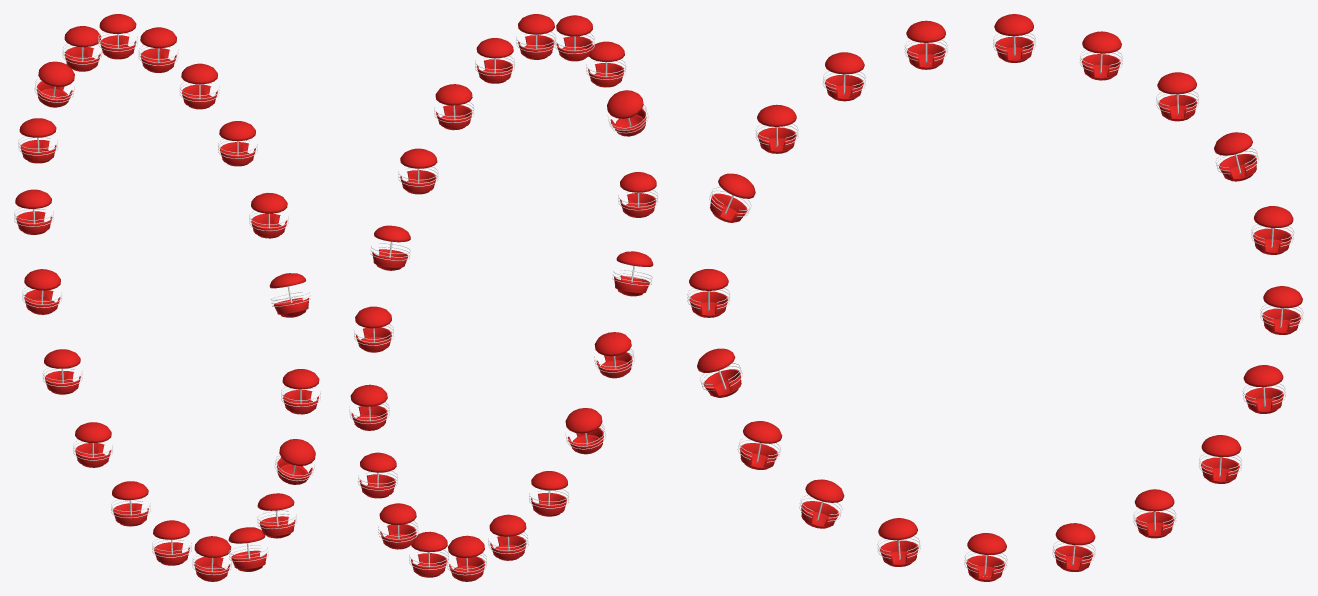
Rendered from ferrisWheel_seats.fbx.
3 views of the same model, side by side, from view 1: azimuth 30°, elevation 25°; view 2: azimuth 150°, elevation 25°; view 3: azimuth 270°, elevation 25° (orthographic). The views are drawn at different scales.
Parts seen in each view (by area): view 1: Circle.025, Circle.157, Circle.120, Circle.062, Circle.168, Circle.096, Circle.192, Circle.205, Circle.229, Circle.013, Circle.217, Circle.181 (+8 smaller); view 2: Circle.241, Circle.050, Circle.037, Circle.107, Circle.074, Circle.132, Circle.145, Circle.082, Circle.181, Circle.217, Circle.205, Circle.013 (+8 smaller); view 3: Circle.096, Circle.181, Circle.229, Circle.082, Circle.120, Circle.168, Circle.205, Circle.062, Circle.132, Circle.013, Circle.107, Circle.192 (+8 smaller).
Part boxes in pixels (left/top/right/bottom): Circle.025: left=274, top=439, right=315, bottom=484; Circle.157: left=34, top=61, right=74, bottom=107; Circle.120: left=22, top=269, right=62, bottom=314; Circle.062: left=192, top=536, right=232, bottom=581; Circle.168: left=62, top=26, right=102, bottom=71; Circle.096: left=73, top=422, right=113, bottom=467; Circle.192: left=138, top=27, right=178, bottom=72; Circle.205: left=179, top=63, right=219, bottom=109; Circle.229: left=249, top=193, right=288, bottom=238; Circle.013: left=281, top=369, right=320, bottom=414; Circle.217: left=218, top=121, right=257, bottom=166; Circle.181: left=98, top=14, right=137, bottom=59; Circle.241: left=607, top=90, right=648, bottom=136; Circle.050: left=565, top=408, right=606, bottom=454; Circle.037: left=594, top=332, right=634, bottom=378; Circle.107: left=378, top=503, right=418, bottom=549; Circle.074: left=488, top=514, right=528, bottom=560; Circle.132: left=349, top=384, right=389, bottom=430; Circle.145: left=354, top=306, right=394, bottom=352; Circle.082: left=447, top=535, right=487, bottom=581; Circle.181: left=434, top=84, right=474, bottom=130; Circle.217: left=554, top=15, right=594, bottom=61; Circle.205: left=516, top=14, right=556, bottom=59; Circle.013: left=618, top=172, right=658, bottom=217; Circle.096: left=1133, top=489, right=1176, bottom=538; Circle.181: left=1079, top=31, right=1122, bottom=80; Circle.229: left=755, top=104, right=798, bottom=153; Circle.082: left=1052, top=523, right=1095, bottom=571; Circle.120: left=1242, top=365, right=1285, bottom=413; Circle.168: left=1156, top=72, right=1199, bottom=121; Circle.205: left=904, top=20, right=947, bottom=69; Circle.062: left=877, top=518, right=920, bottom=566; Circle.132: left=1260, top=286, right=1303, bottom=334; Circle.013: left=687, top=269, right=730, bottom=317; Circle.107: left=1199, top=435, right=1242, bottom=483; Circle.192: left=993, top=14, right=1036, bottom=62.
Bounding box in the file's own units: 235 × 3495 × 3475.
